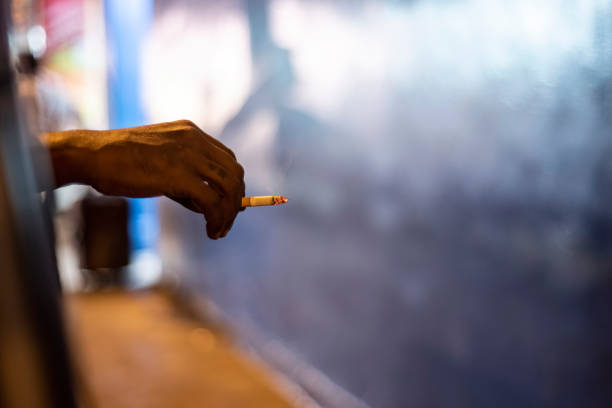cigarette: (240, 194, 290, 206)
